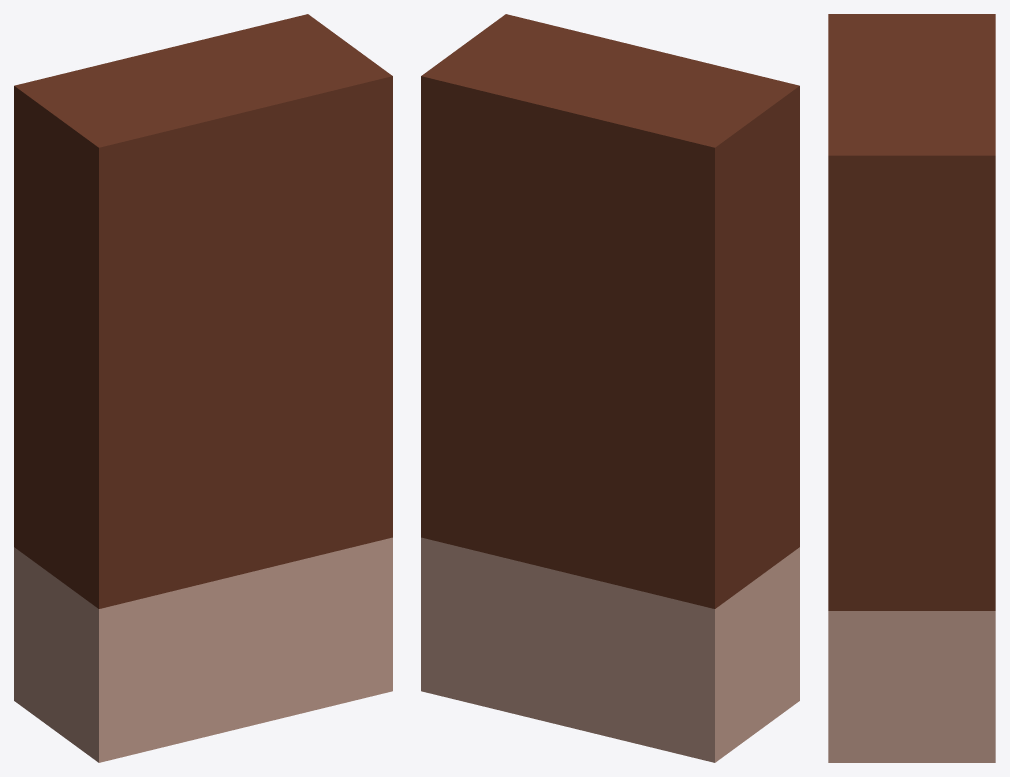
The model's file is Char18-Arm1.gltf.
3 views of the same model, side by side, from view 1: azimuth 30°, elevation 25°; view 2: azimuth 150°, elevation 25°; view 3: azimuth 270°, elevation 25° (orthographic).
Size of the model in its own units: 2 by 4 by 1.
